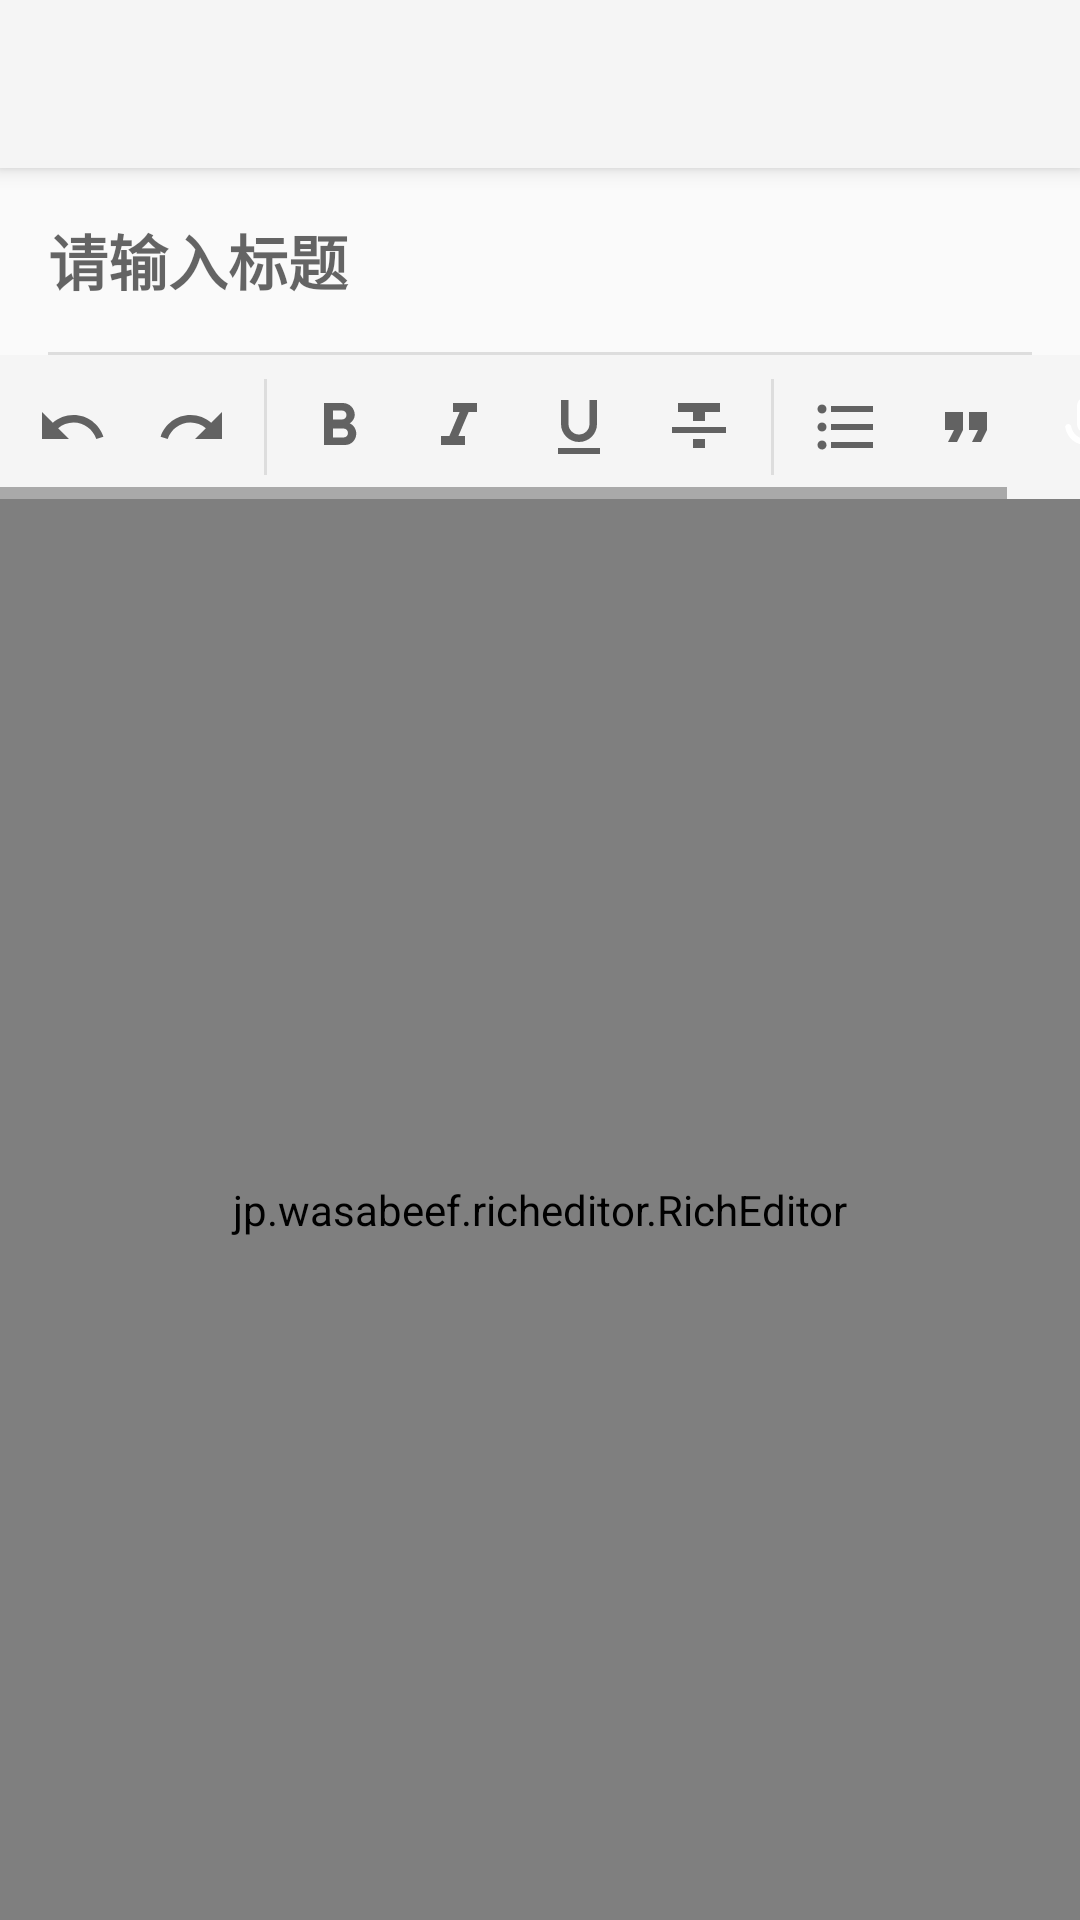

Screen size 1080*1920. Icon name, then its center in pixels as (x,y):
format italic: (459,424)
format list bulleted: (845,427)
format quote: (966,427)
format underlined: (579,427)
redo: (191,425)
strikethrough: (699,425)
undo: (73,425)
